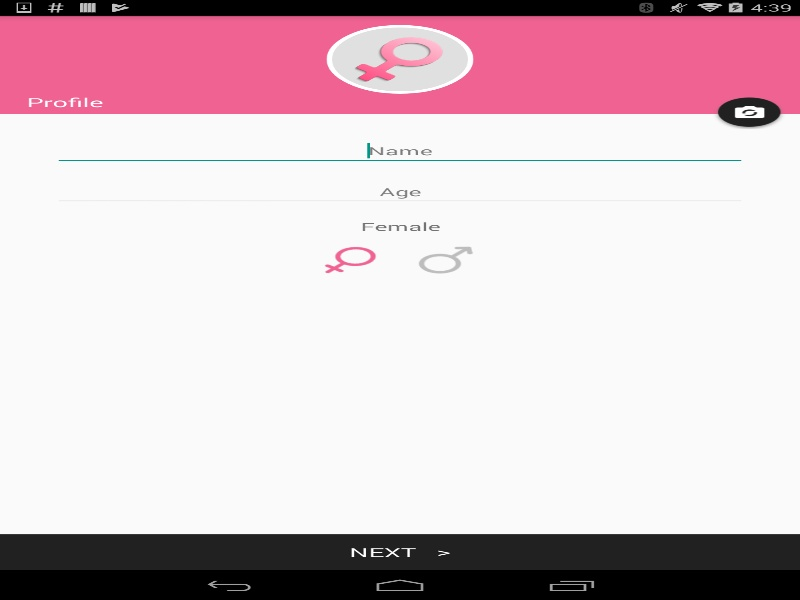Input: (53, 136, 746, 165), (53, 177, 746, 206)
